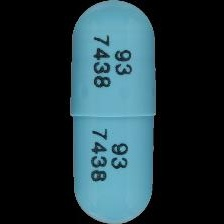35356-893: (0, 0, 224, 224)
